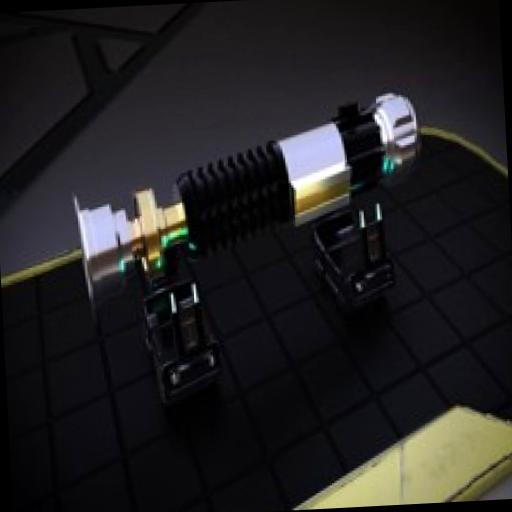lightsaber: (66, 89, 428, 312)
